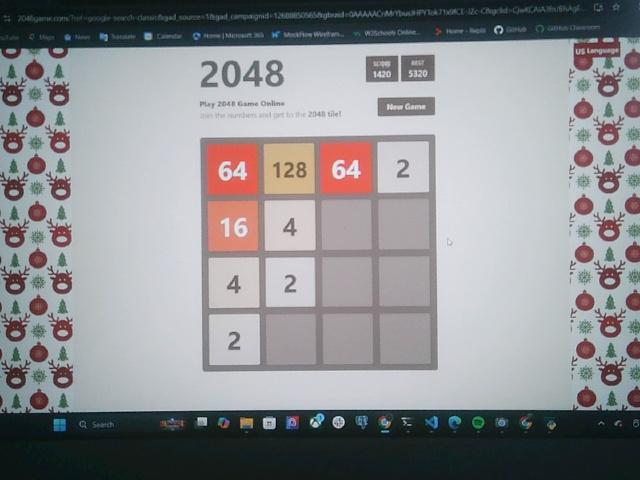board: (201, 136, 436, 371)
tile: (209, 315, 262, 366), (321, 143, 373, 194), (209, 257, 260, 308), (208, 143, 258, 194), (379, 142, 429, 193), (266, 201, 317, 251), (209, 200, 257, 252), (266, 258, 316, 307), (265, 145, 314, 194)
